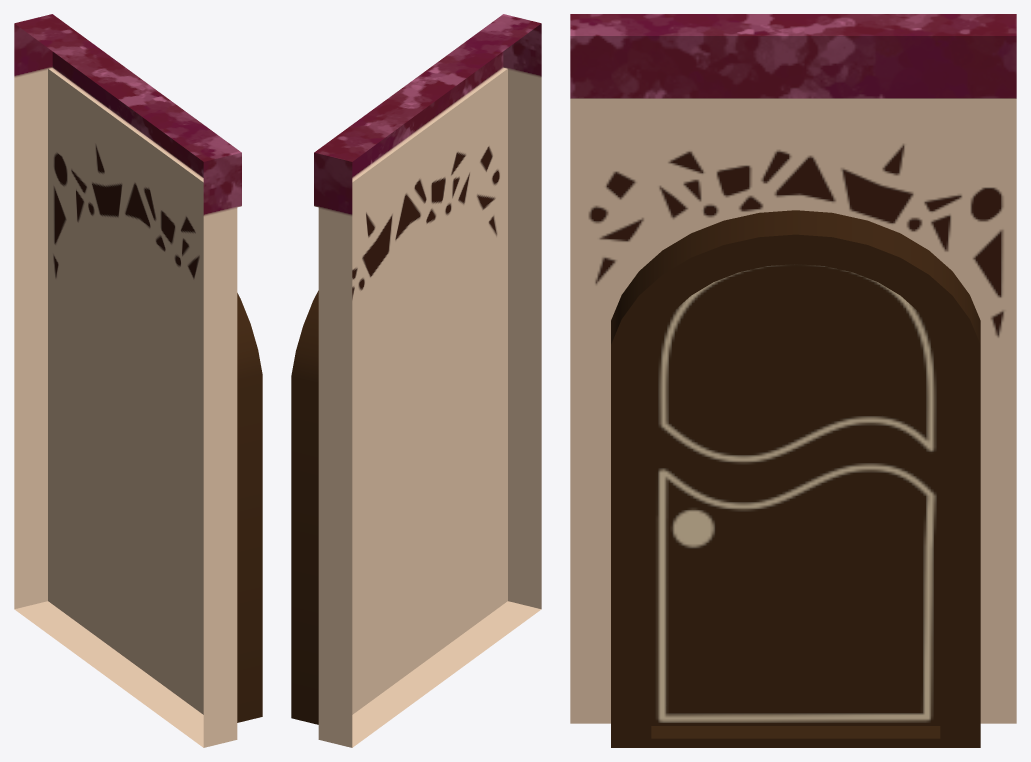
The model's file is pared puerta.fbx.
The picture shows the model from 3 angles, left to right: view 1: azimuth 30°, elevation 25°; view 2: azimuth 150°, elevation 25°; view 3: azimuth 270°, elevation 25°; orthographic projection. The views are drawn at different scales.
Parts seen in each view (by area): view 1: Cube.115; view 2: Cube.115; view 3: Cube.115.
Part boxes in pixels (bbox=[...]): Cube.115: bbox=[14, 14, 262, 747]; Cube.115: bbox=[291, 14, 541, 747]; Cube.115: bbox=[570, 14, 1016, 747].
Bounding box in the file's own units: 53.81 × 396 × 232.
